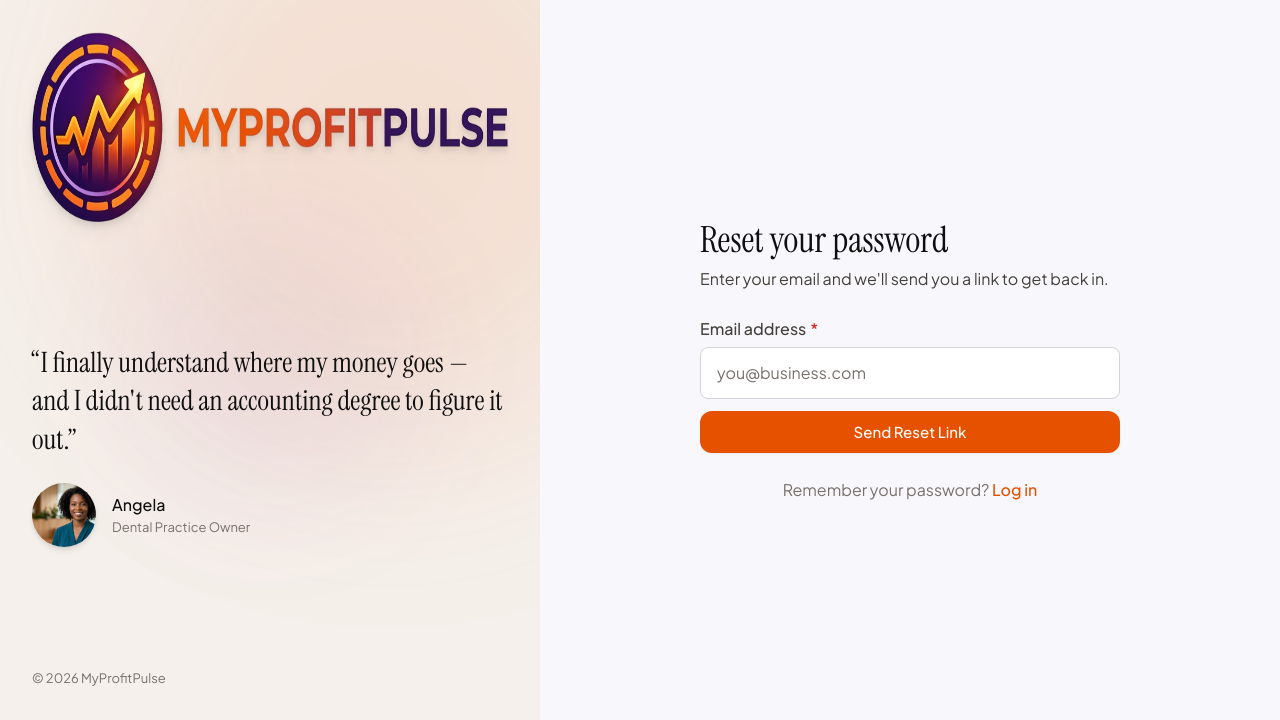
ForgotPasswordPage › shows validation error for invalid email
This screenshot has width=1280, height=720.
Type "not-valid" into the field labelled "Email address*".
click(910, 373); type("not-valid")  # box [700, 347, 1120, 399]
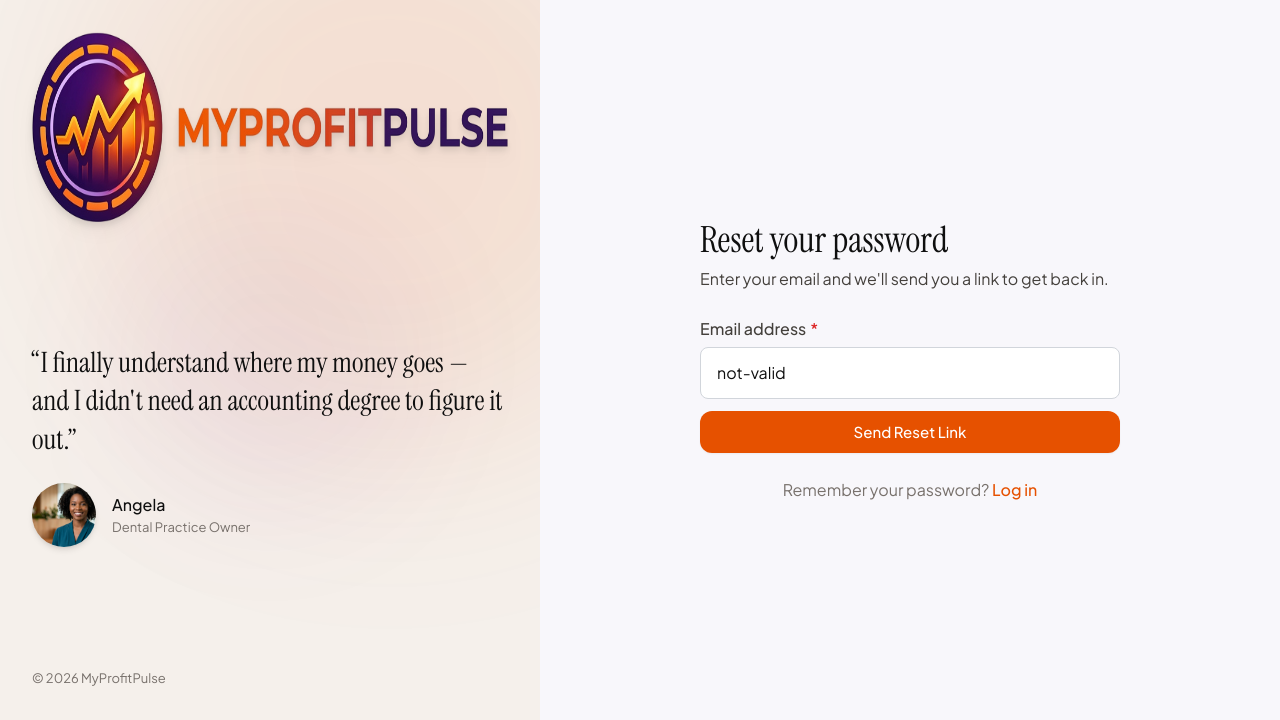
Click the button "Send Reset Link".
click(910, 432)  # box [700, 411, 1120, 453]
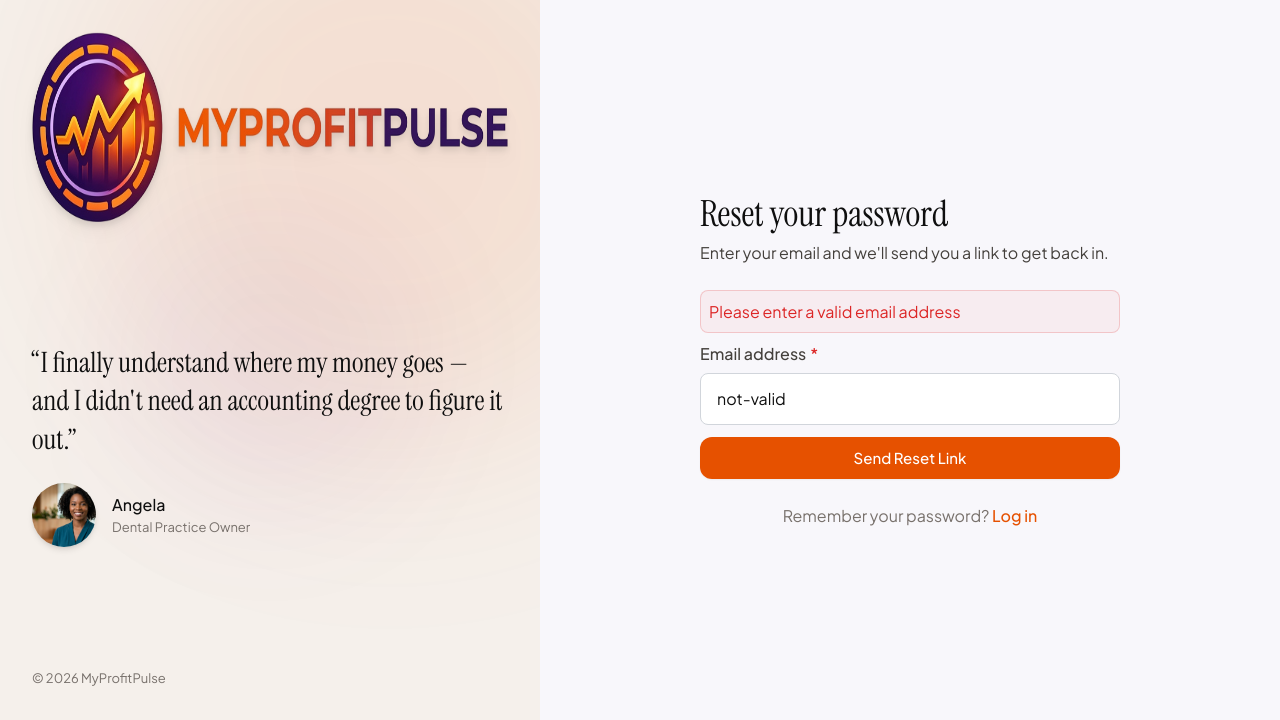
Expected: the text "Please enter a valid email address" is shown, [709, 301, 961, 322]
